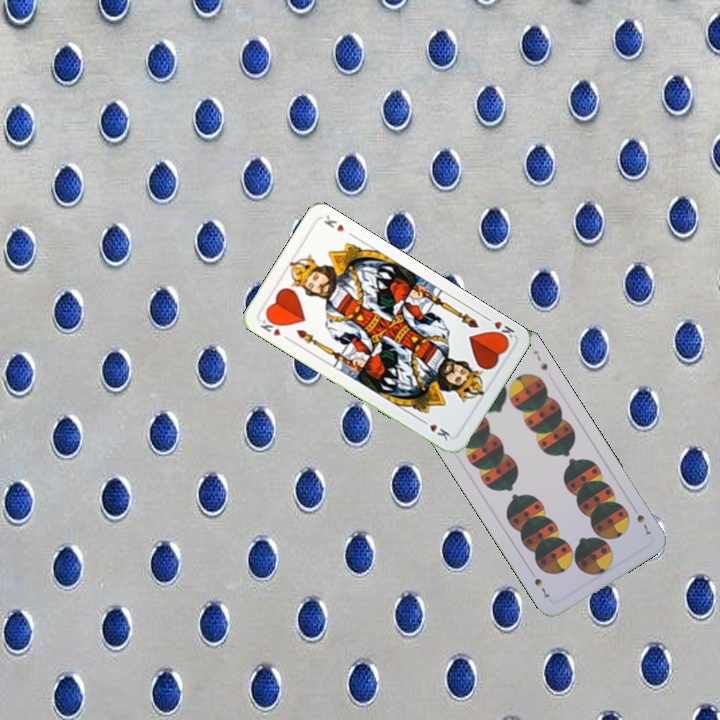HK: (481, 312, 517, 344), (256, 313, 293, 343)
S7: (632, 510, 654, 537)
